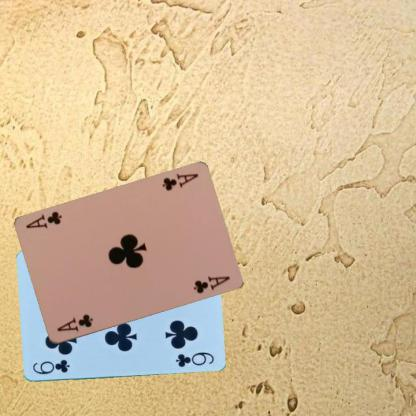6c: (30, 357, 71, 376)
Ac: (54, 312, 94, 333), (159, 171, 199, 192)
